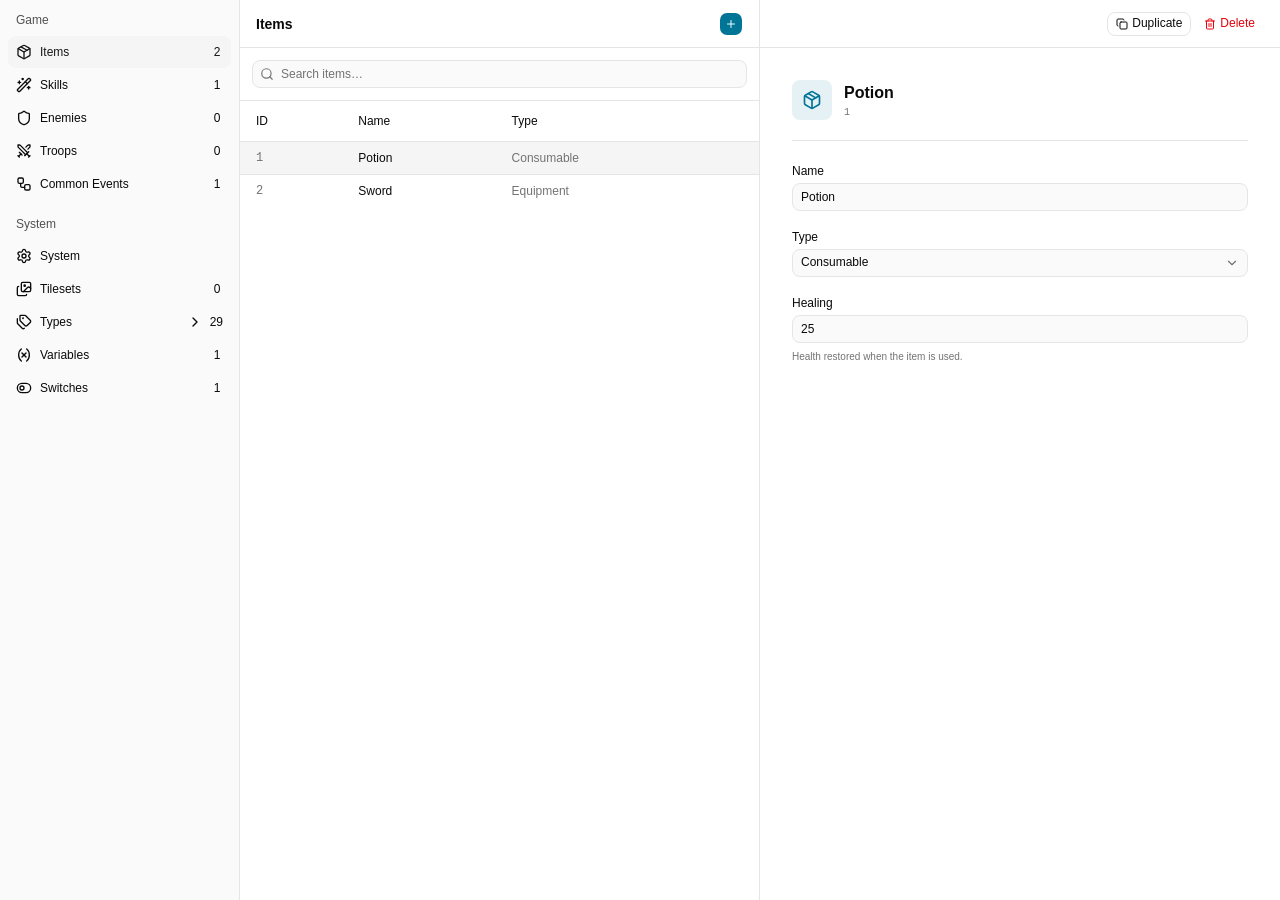
Test: DatabaseManager › shows conditional item fields and the missing equipment slot state
Check: the number field named "Item healing" holds "25", box left=792, top=315, right=1248, bottom=343
Click the row "2 Sword equipment".
click(375, 190)  # box left=240, top=174, right=759, bottom=206
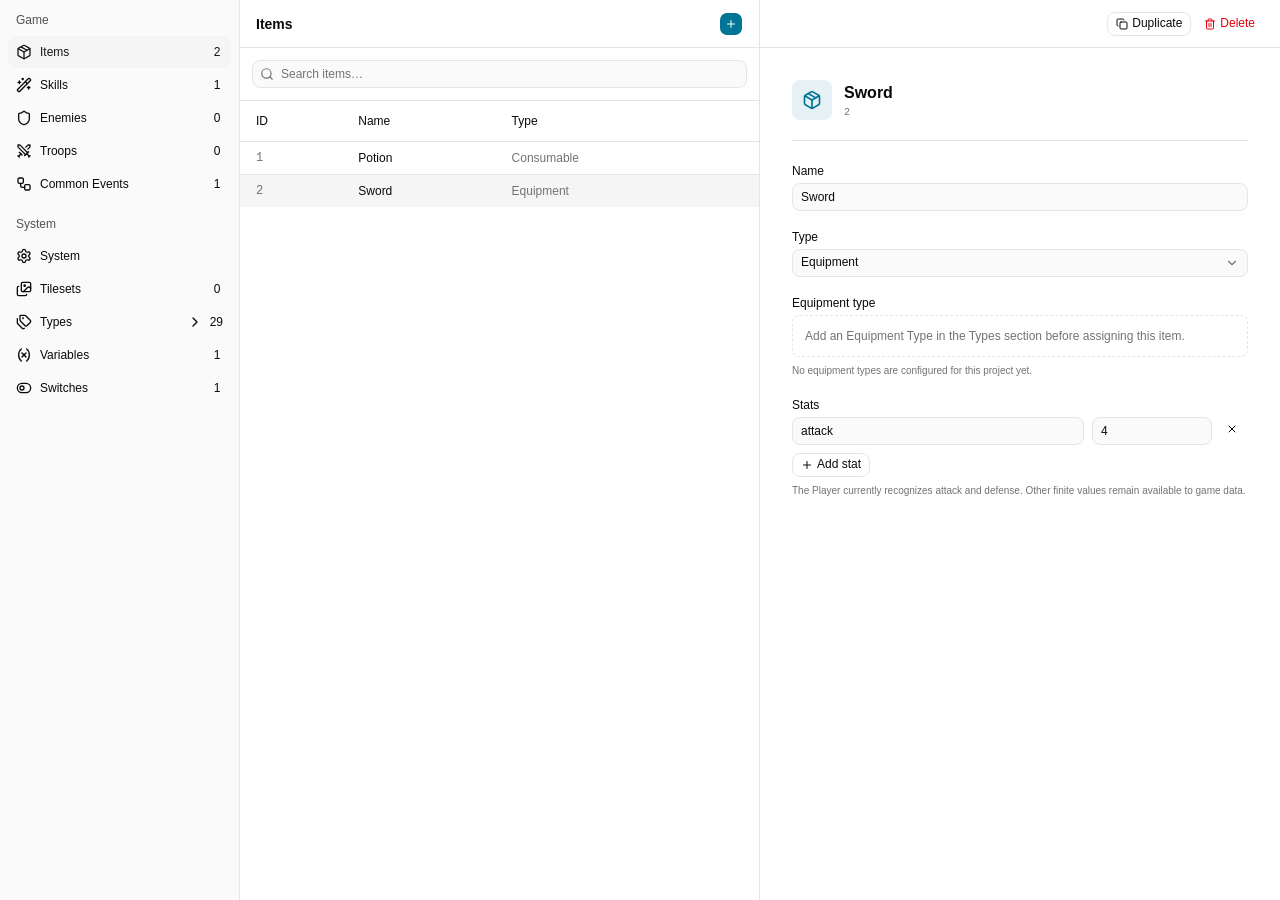
Check: the text "No equipment types are configured for this project yet." is shown, box left=792, top=365, right=1032, bottom=376
Check: the number field named "Stat value attack" holds "4", box left=1092, top=417, right=1212, bottom=445
